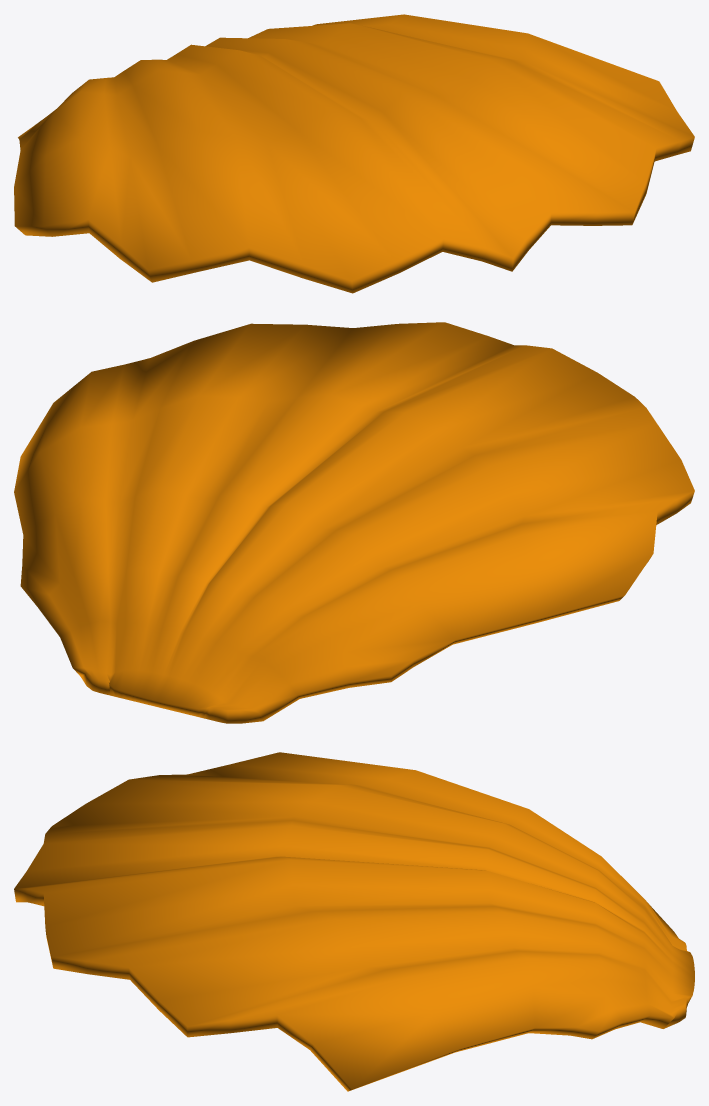
The model's file is Flat Shell.fbx.
3 renders of one model, top to bottom at view 1: azimuth 30°, elevation 25°; view 2: azimuth 150°, elevation 25°; view 3: azimuth 270°, elevation 25°, orthographic. The views are drawn at different scales.
Parts seen in each view (by area): view 1: Shell; view 2: Shell; view 3: Shell.
Part boxes in pixels (bbox=[...]): Shell: bbox=[14, 14, 694, 293]; Shell: bbox=[14, 322, 694, 723]; Shell: bbox=[14, 752, 694, 1091].
Bounding box in the file's own units: 0.4888 × 0.1146 × 0.4908.
